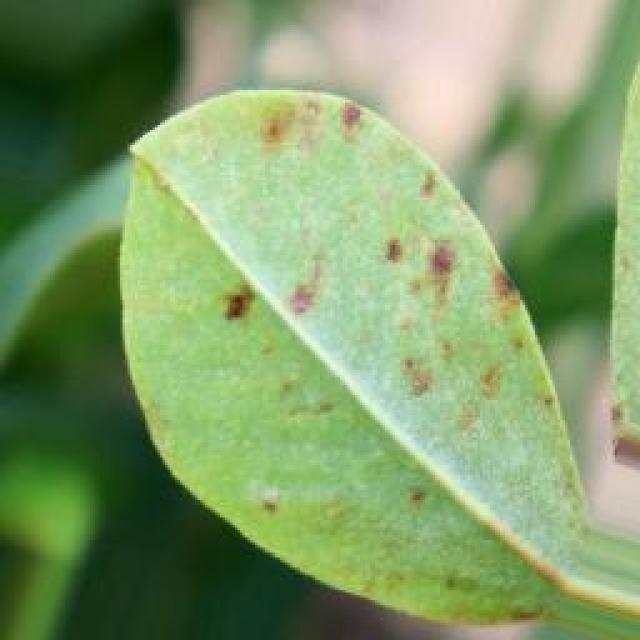Whitefly: (82, 52, 602, 640)
